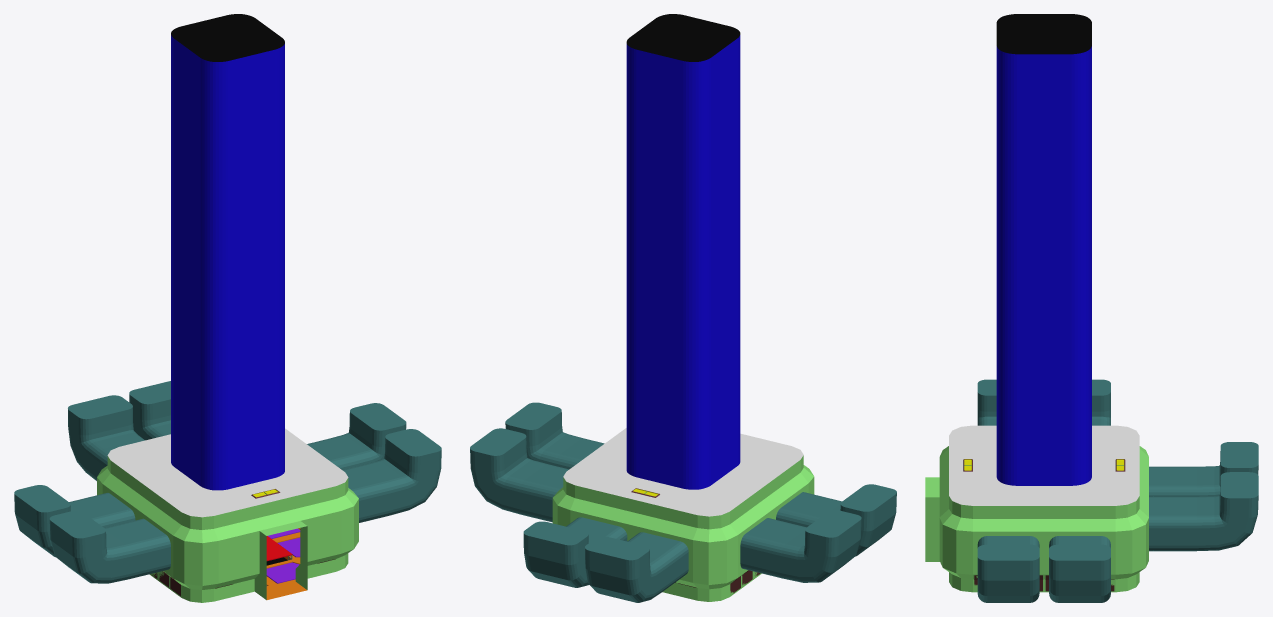
File: Aufzug Showcase.fbx
3 renders of one model, left to right at view 1: azimuth 30°, elevation 25°; view 2: azimuth 150°, elevation 25°; view 3: azimuth 270°, elevation 25°, orthographic.
Visible parts, largest first — view 1: Aufzug; view 2: Aufzug; view 3: Aufzug.
Boxes of the visible parts, left/top/right/bottom form: Aufzug: left=14, top=14, right=441, bottom=602; Aufzug: left=470, top=14, right=896, bottom=602; Aufzug: left=925, top=14, right=1258, bottom=602.
Size of the model in its own units: 900 by 1210 by 700.
